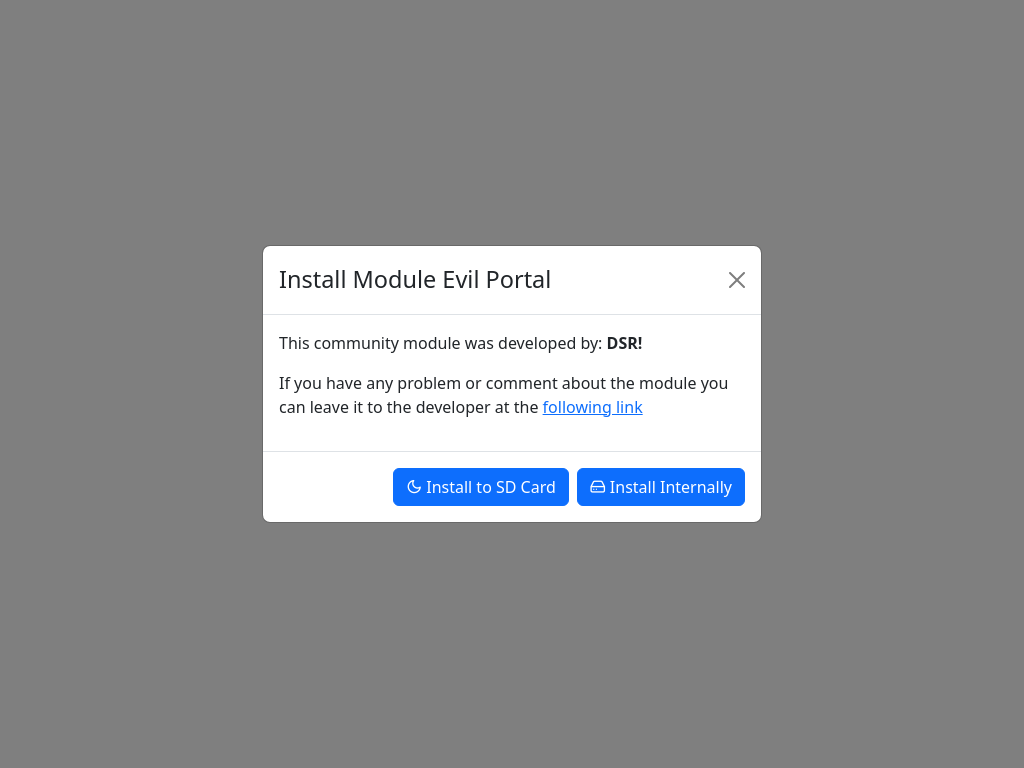
Test: InstallModal › starts the download for the chosen destination and switches to the progress view
Click the button "Install to SD Card".
click(481, 487)  # box [393,468,569,506]
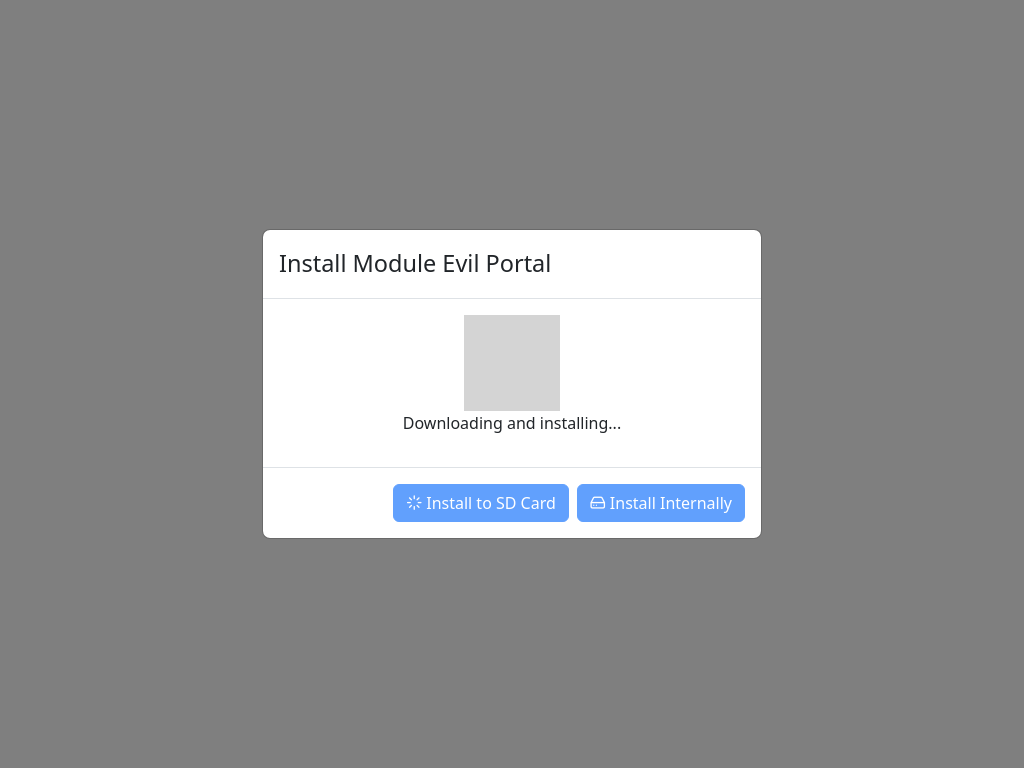
Result: the text "Downloading and installing..." is shown at [403,412,621,434]
Result: the button labelled "Close" is gone
